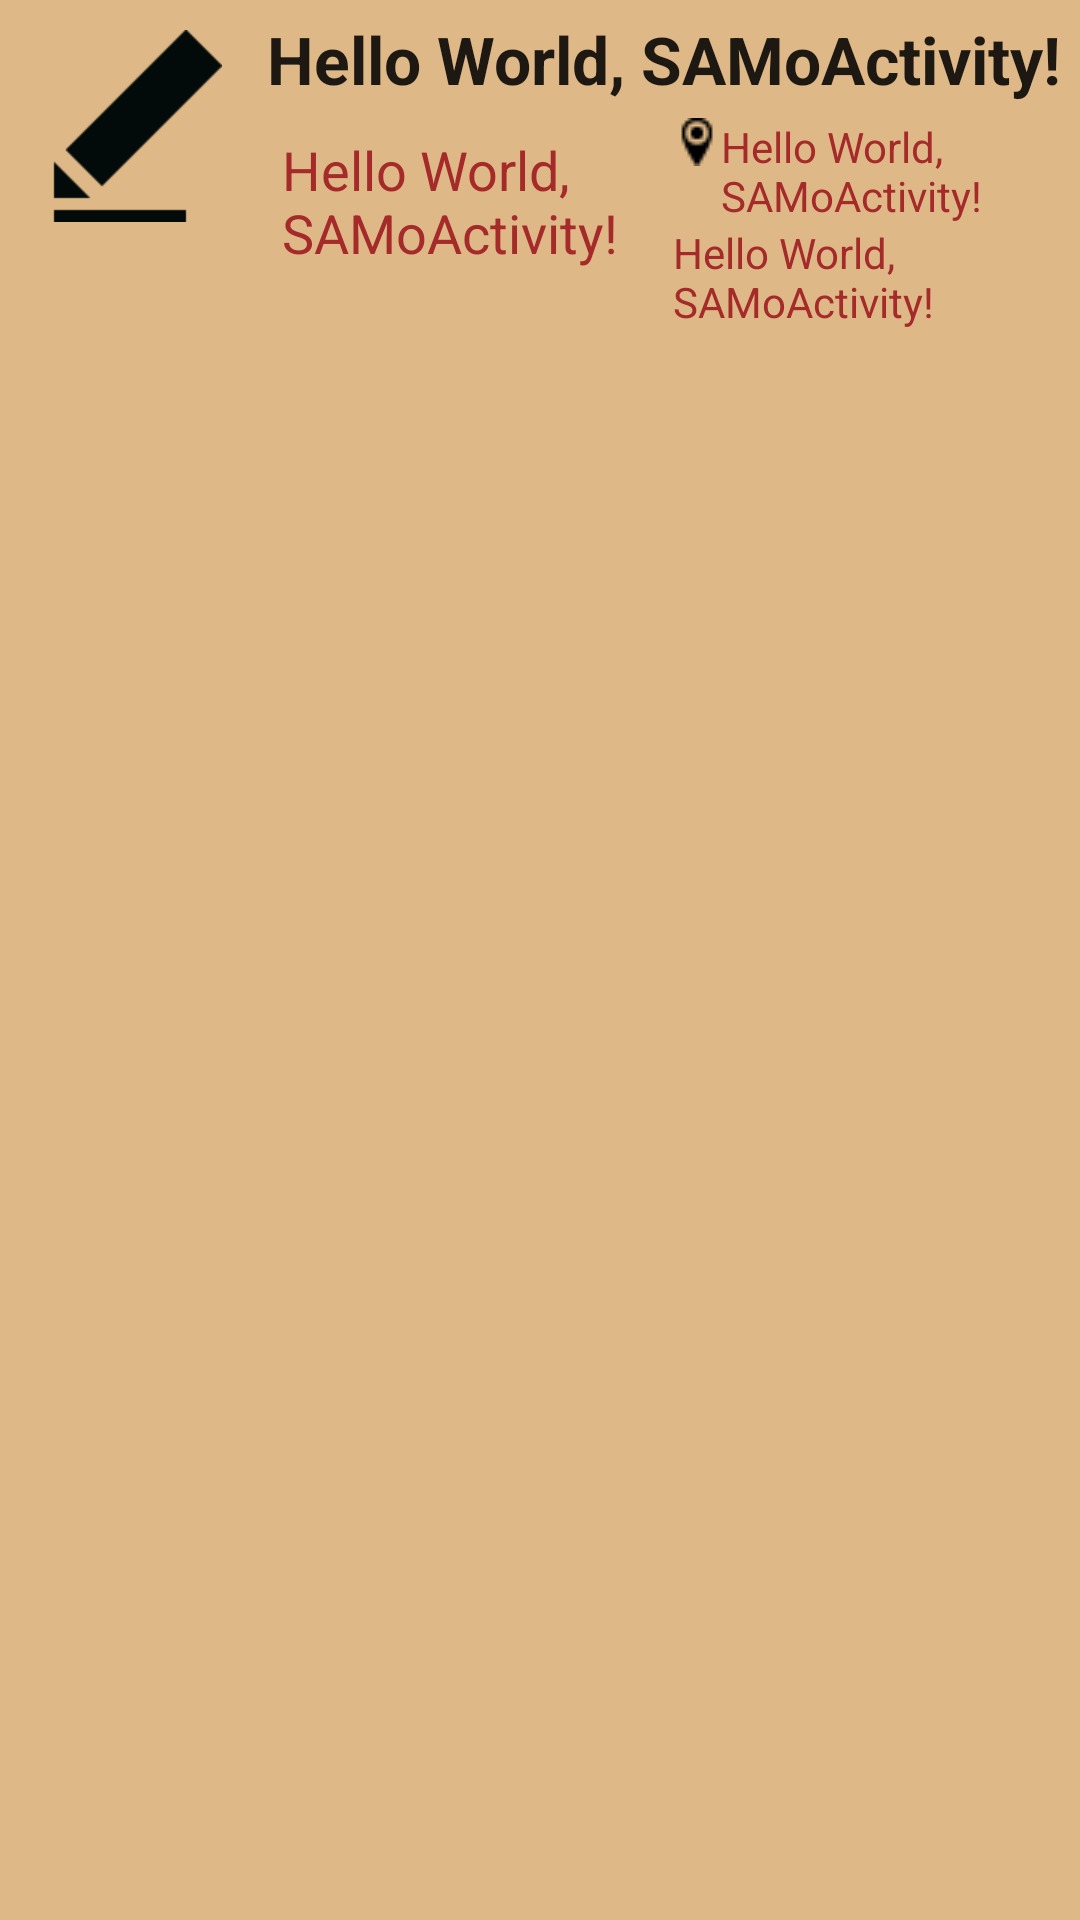

Screen size 1080 × 1920. Icon name, then its box in pixels as (x1=x1, y1=y1, x2=x2, y2=y2):
edit: (x1=53, y1=30, x2=222, y2=222)
pin: (x1=681, y1=118, x2=713, y2=166)
